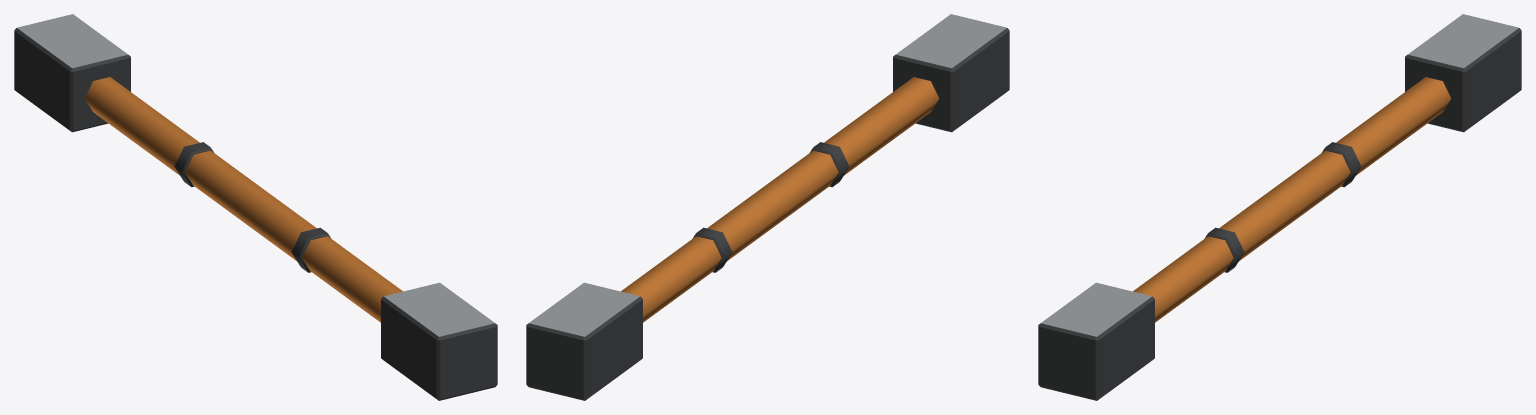
File: R4C_ROD_LONG_LOD1.fbx
The picture shows the model from 3 angles, left to right: view 1: azimuth 30°, elevation 25°; view 2: azimuth 150°, elevation 25°; view 3: azimuth 330°, elevation 25°; orthographic projection.
Parts seen in each view (by area): view 1: R4C_ROD_LONG_LOD1; view 2: R4C_ROD_LONG_LOD1; view 3: R4C_ROD_LONG_LOD1.
Part boxes in pixels (x1=…): R4C_ROD_LONG_LOD1: x1=14, y1=14, x2=497, y2=400; R4C_ROD_LONG_LOD1: x1=526, y1=14, x2=1009, y2=400; R4C_ROD_LONG_LOD1: x1=1038, y1=14, x2=1521, y2=400.
Bounding box in the file's own units: 0.226 × 0.226 × 2.72.
